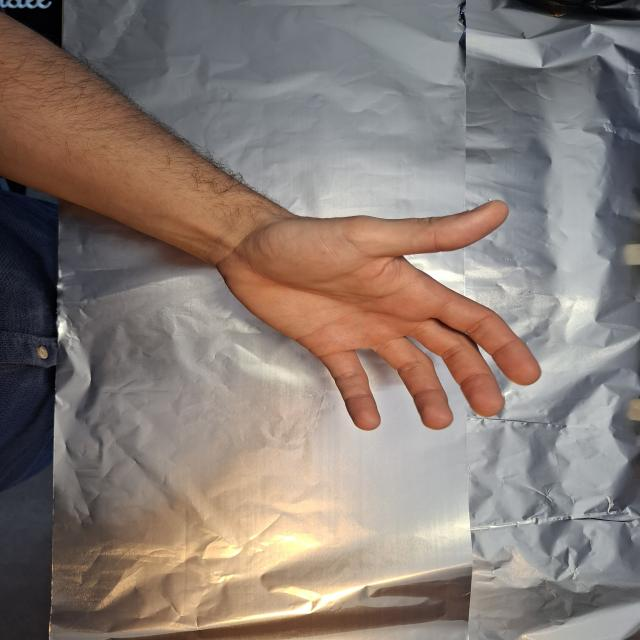glove_off: (202, 193, 544, 434)
